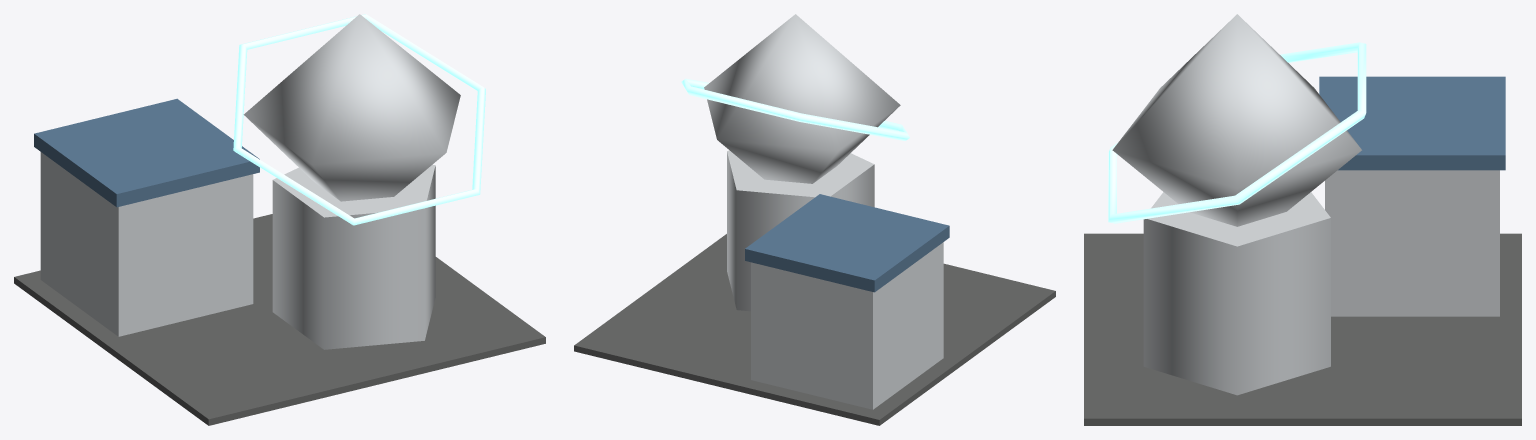
The model's file is bld_special_radar_a09_lod2.glb.
3 renders of one model, left to right at view 1: azimuth 30°, elevation 25°; view 2: azimuth 150°, elevation 25°; view 3: azimuth 270°, elevation 25°, orthographic. The views are drawn at different scales.
Parts seen in each view (by area): view 1: body; view 2: body; view 3: body.
Part boxes in pixels (x1=…): body: x1=14, y1=14, x2=545, y2=425; body: x1=574, y1=14, x2=1055, y2=425; body: x1=1084, y1=14, x2=1521, y2=425.
Size of the model in its own units: 8.2 by 7 by 8.
